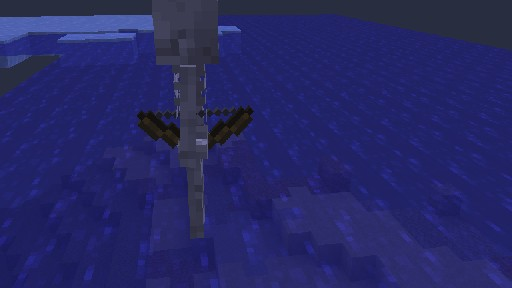skeleton: (136, 0, 253, 239)
